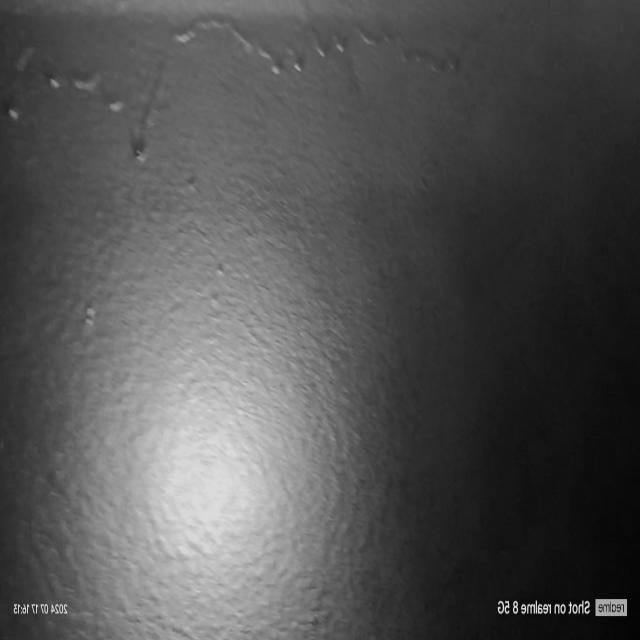paint drips: (0, 6, 468, 174)
